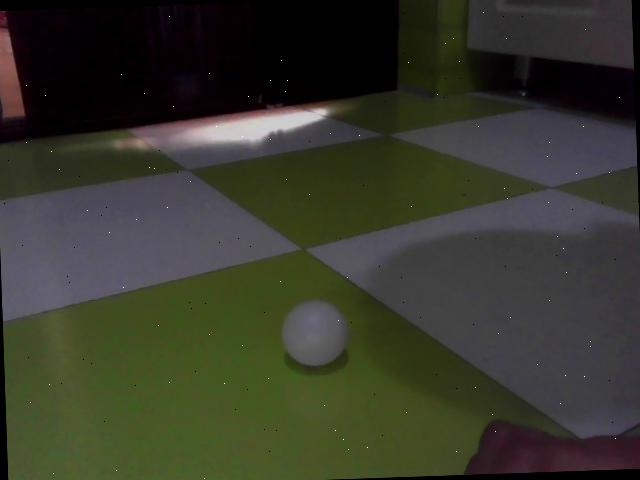ball: (280, 298, 349, 368)
